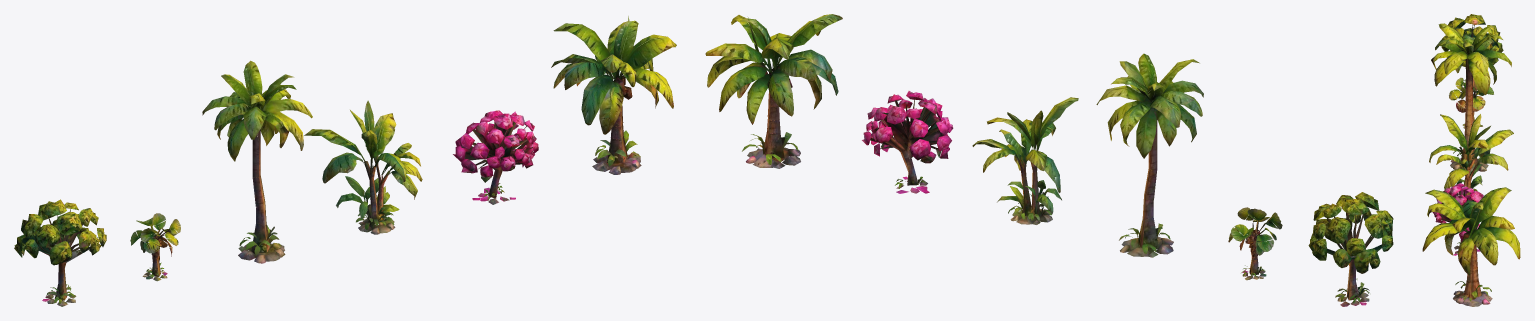
File: trees.glb
3 views of the same model, side by side, from view 1: azimuth 30°, elevation 25°; view 2: azimuth 150°, elevation 25°; view 3: azimuth 270°, elevation 25° (orthographic). The views are drawn at different scales.
Visible parts, largest first — view 1: tree_palm_mid, tree_palm_small, tree_palm_bushy, tree_round_tree, tree_pink_blossom, tree_banana_plant; view 2: tree_palm_mid, tree_palm_small, tree_round_tree, tree_pink_blossom, tree_palm_bushy, tree_banana_plant; view 3: tree_palm_mid, tree_palm_small, tree_palm_bushy, tree_round_tree, tree_pink_blossom, tree_banana_plant.
Boxes of the visible parts, x1=… form: tree_palm_mid: x1=551, y1=16, x2=676, y2=174; tree_palm_small: x1=202, y1=60, x2=312, y2=263; tree_palm_bushy: x1=304, y1=100, x2=422, y2=234; tree_round_tree: x1=14, y1=199, x2=106, y2=306; tree_pink_blossom: x1=453, y1=110, x2=538, y2=204; tree_banana_plant: x1=130, y1=213, x2=180, y2=281; tree_palm_mid: x1=705, y1=14, x2=842, y2=168; tree_palm_small: x1=1096, y1=53, x2=1203, y2=257; tree_round_tree: x1=1308, y1=192, x2=1393, y2=306; tree_pink_blossom: x1=862, y1=91, x2=953, y2=193; tree_palm_bushy: x1=972, y1=97, x2=1078, y2=224; tree_banana_plant: x1=1228, y1=207, x2=1282, y2=280; tree_palm_mid: x1=1422, y1=187, x2=1520, y2=306; tree_palm_small: x1=1431, y1=23, x2=1511, y2=173; tree_palm_bushy: x1=1429, y1=114, x2=1513, y2=195; tree_round_tree: x1=1441, y1=14, x2=1503, y2=95; tree_pink_blossom: x1=1432, y1=183, x2=1483, y2=255; tree_banana_plant: x1=1449, y1=77, x2=1493, y2=128.
Size of the model in its own units: 30.05 by 7.77 by 5.19.
1 material, 1 textured.
